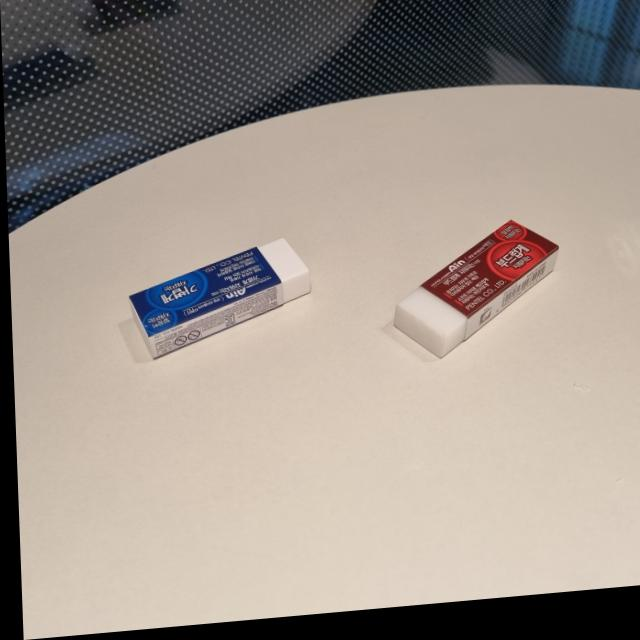blue: (120, 233, 319, 365)
red: (383, 215, 566, 375)
